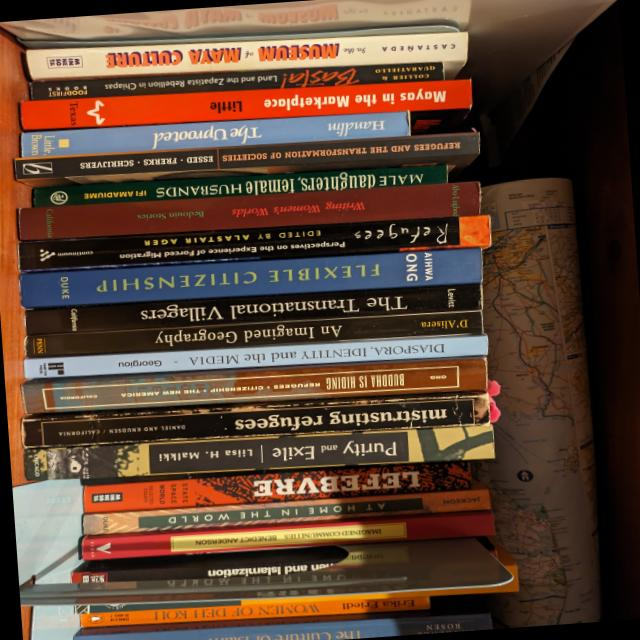book: (18, 246, 483, 309), (16, 213, 490, 274), (16, 181, 480, 242), (20, 389, 490, 449), (22, 424, 494, 483), (21, 355, 487, 414), (12, 131, 479, 188), (24, 282, 482, 336), (18, 78, 471, 131), (23, 31, 467, 81), (24, 310, 482, 358), (81, 458, 471, 514), (77, 509, 494, 561), (23, 333, 488, 379), (80, 487, 489, 535), (31, 163, 448, 208), (19, 110, 409, 158), (28, 60, 444, 101), (72, 603, 490, 640), (69, 542, 348, 589), (79, 594, 429, 628)
